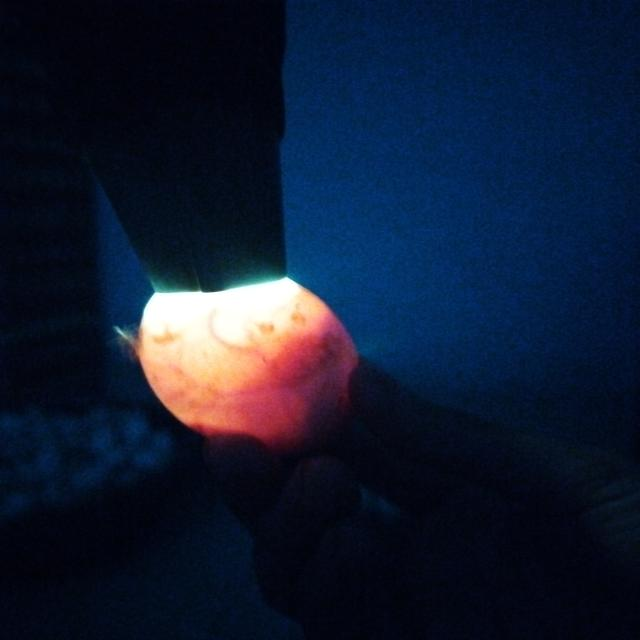Embriao: (196, 334, 359, 454)
